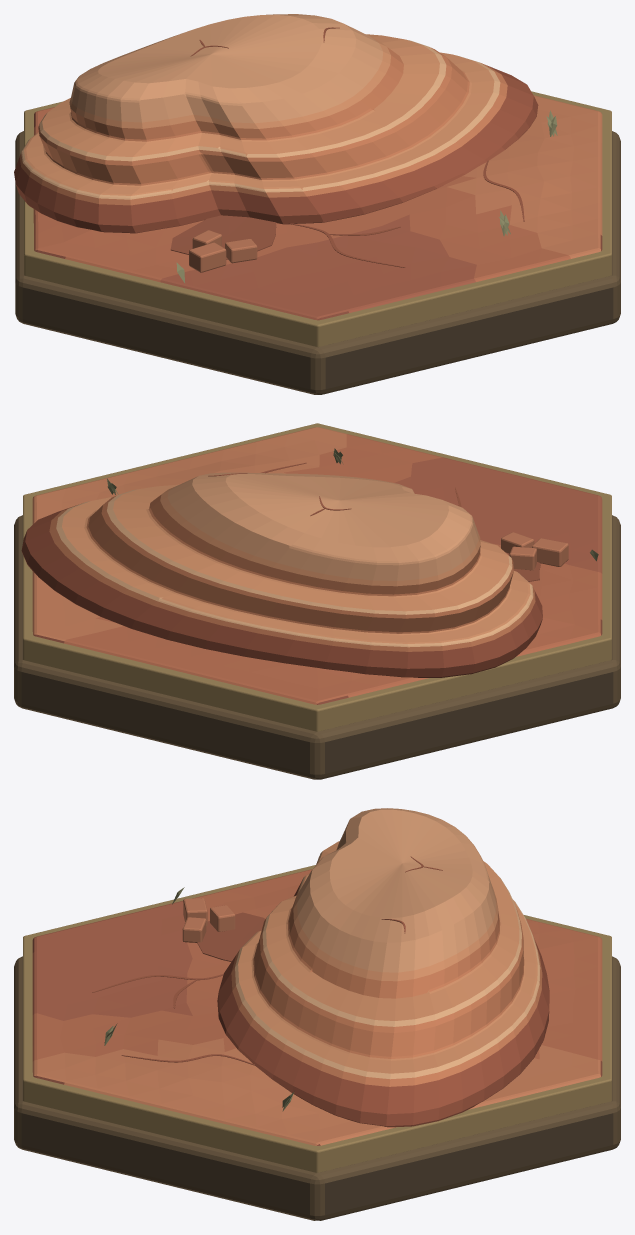
Rendered from hills.glb.
3 renders of one model, top to bottom at view 1: azimuth 30°, elevation 25°; view 2: azimuth 150°, elevation 25°; view 3: azimuth 270°, elevation 25°, orthographic.
Visible parts, largest first — view 1: Hex_Hills_Clay_Terraces, Hex_Hills_Terrain, Hex_Hills_Base, Hex_Hills_Rim, Hex_Hills_Extraction_Cut, Hex_Hills_Clay_Blocks, Hex_Hills_Erosion_Channels; view 2: Hex_Hills_Clay_Terraces, Hex_Hills_Terrain, Hex_Hills_Base, Hex_Hills_Rim, Hex_Hills_Clay_Blocks; view 3: Hex_Hills_Clay_Terraces, Hex_Hills_Terrain, Hex_Hills_Base, Hex_Hills_Rim, Hex_Hills_Extraction_Cut, Hex_Hills_Clay_Blocks, Hex_Hills_Erosion_Channels.
Boxes of the visible parts, x1,y1,x2,y2 form: Hex_Hills_Clay_Terraces: (14, 14, 538, 233); Hex_Hills_Terrain: (33, 95, 602, 320); Hex_Hills_Base: (15, 131, 620, 394); Hex_Hills_Rim: (24, 91, 611, 346); Hex_Hills_Extraction_Cut: (170, 215, 276, 259); Hex_Hills_Clay_Blocks: (189, 230, 257, 272); Hex_Hills_Erosion_Channels: (190, 27, 524, 267); Hex_Hills_Clay_Terraces: (21, 472, 542, 677); Hex_Hills_Terrain: (32, 427, 602, 704); Hex_Hills_Base: (14, 515, 620, 779); Hex_Hills_Rim: (23, 423, 611, 731); Hex_Hills_Clay_Blocks: (501, 532, 568, 570); Hex_Hills_Clay_Terraces: (217, 808, 549, 1127); Hex_Hills_Terrain: (32, 869, 602, 1145); Hex_Hills_Base: (14, 956, 620, 1220); Hex_Hills_Rim: (23, 865, 611, 1172); Hex_Hills_Extraction_Cut: (197, 912, 265, 961); Hex_Hills_Clay_Blocks: (182, 898, 235, 942); Hex_Hills_Erosion_Channels: (92, 856, 442, 1065).
Size of the model in its own units: 2.38 by 0.7111 by 2.08.
